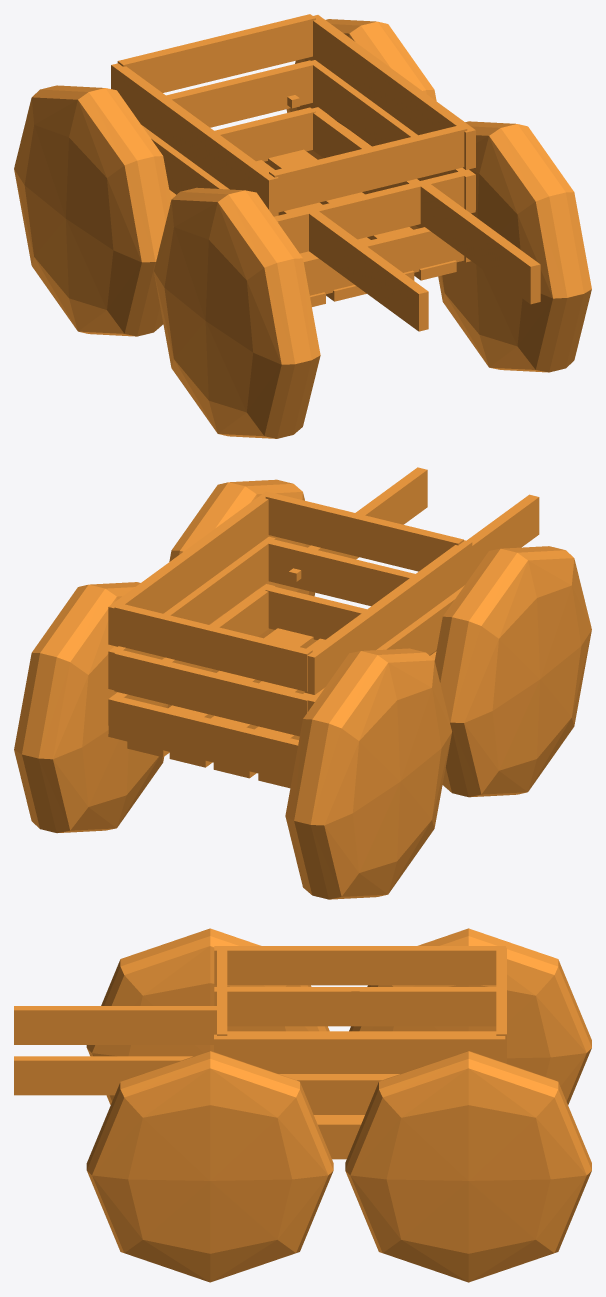
File: GasterSlaveTelejkoy(brown).obj
The picture shows the model from 3 angles, top to bottom: view 1: azimuth 30°, elevation 25°; view 2: azimuth 150°, elevation 25°; view 3: azimuth 270°, elevation 25°; orthographic projection. The views are drawn at different scales.
Parts seen in each view (by area): view 1: Cube.020_Cube.022; view 2: Cube.020_Cube.022; view 3: Cube.020_Cube.022.
Part boxes in pixels (x1,y1,x2,y2): Cube.020_Cube.022: (14,14,591,438); Cube.020_Cube.022: (14,467,591,899); Cube.020_Cube.022: (14,928,591,1282).
Bounding box in the file's own units: 2.65 × 1.87 × 4.29.
